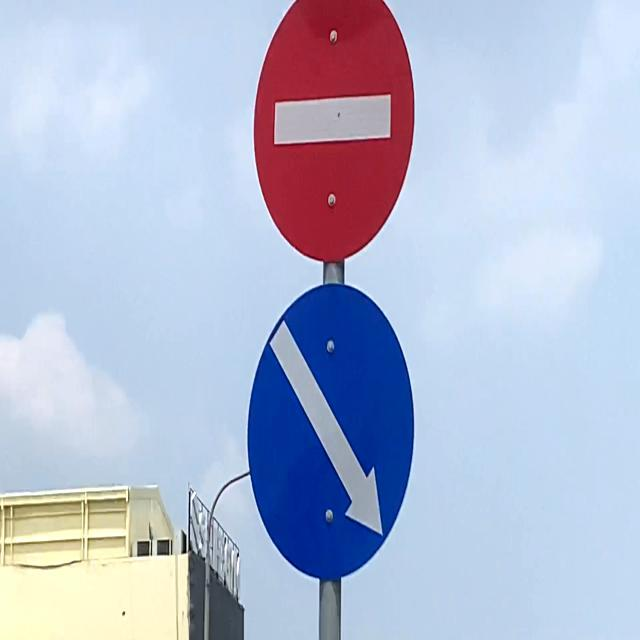Cam di nguoc chieu: (250, 0, 420, 268)
Vong chuong ngai vat sang phai: (242, 274, 418, 590)
